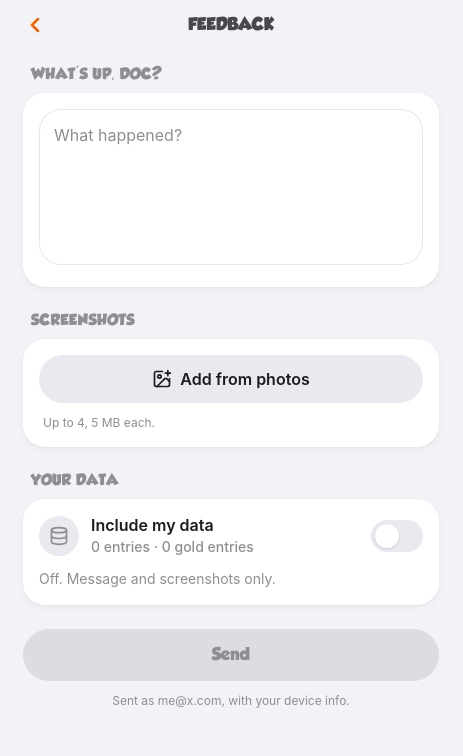
Test case: Feedback: the form › surfaces a failure and leaves what was typed alone
Check: the button "Send" is shown, box [23,629,439,681]
Type "nope" into the text box named "Your feedback" at (231,187), box [39,109,423,265]
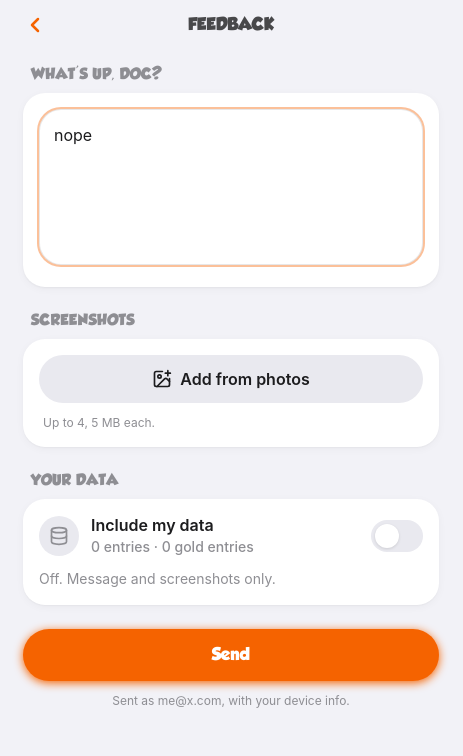
Click the button "Send" at (231,655), box [23,629,439,681]
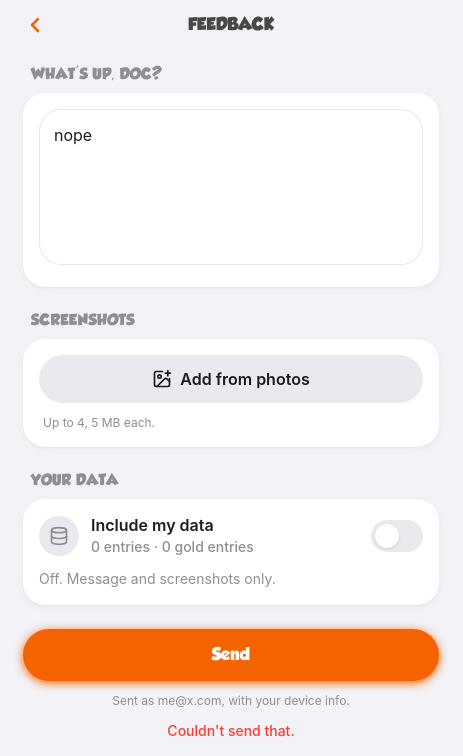
Check: the text "Couldn't send that." is shown, box [167,722,295,739]
